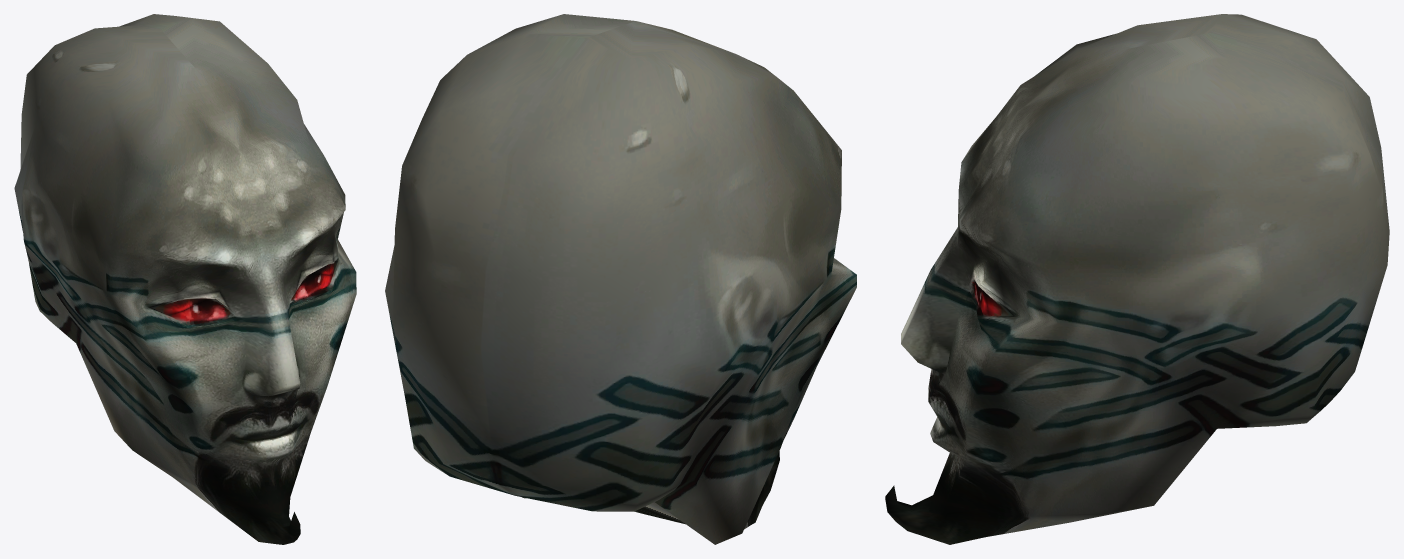
File: b_n_dark elf_m_head_09.glb
3 views of the same model, side by side, from view 1: azimuth 30°, elevation 25°; view 2: azimuth 150°, elevation 25°; view 3: azimuth 270°, elevation 25° (orthographic). The views are drawn at different scales.
Parts seen in each view (by area): view 1: Tri B_N_Dark Elf_M_Head_09; view 2: Tri B_N_Dark Elf_M_Head_09; view 3: Tri B_N_Dark Elf_M_Head_09.
Part boxes in pixels (left/top/right/bottom): Tri B_N_Dark Elf_M_Head_09: left=14, top=14, right=356, bottom=544; Tri B_N_Dark Elf_M_Head_09: left=385, top=14, right=856, bottom=544; Tri B_N_Dark Elf_M_Head_09: left=885, top=14, right=1389, bottom=544.
Size of the model in its own units: 0.093 by 0.1594 by 0.1442.
1 material, 1 textured.
